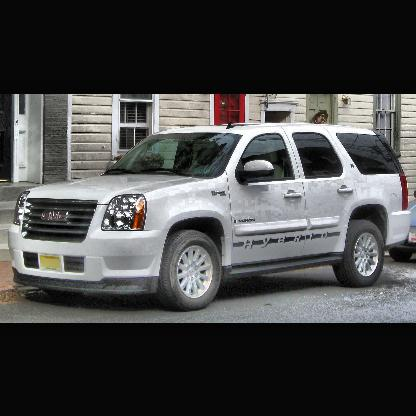GMC Yukon Hybrid SUV 2012: (10, 123, 411, 311)
